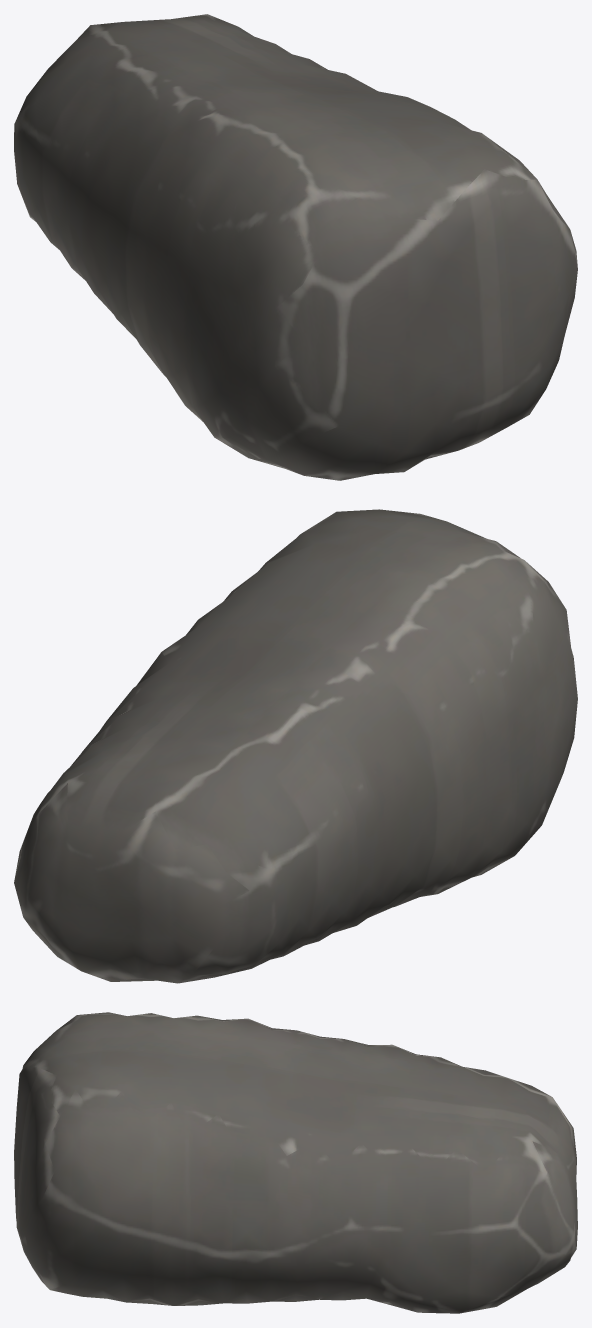
Rendered from SM_rock_small_03.glb.
3 renders of one model, top to bottom at view 1: azimuth 30°, elevation 25°; view 2: azimuth 150°, elevation 25°; view 3: azimuth 270°, elevation 25°, orthographic. The views are drawn at different scales.
Visible parts, largest first — view 1: SM_rock_small_03; view 2: SM_rock_small_03; view 3: SM_rock_small_03.
Part boxes in pixels (x1,y1,x2,y2): SM_rock_small_03: (14,14,577,480); SM_rock_small_03: (14,509,577,983); SM_rock_small_03: (14,1012,577,1313).
Size of the model in its own units: 0.9375 by 0.7716 by 1.7.
Materials: 1 (1 with a texture image).
